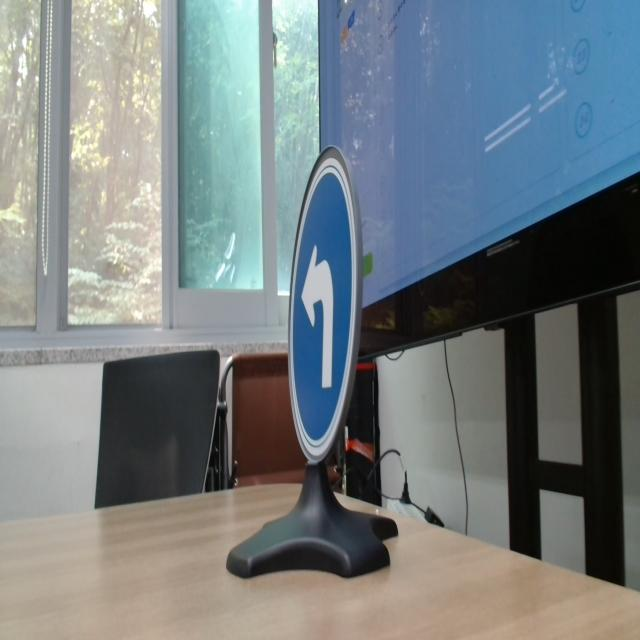left_direction: (276, 133, 383, 484)
